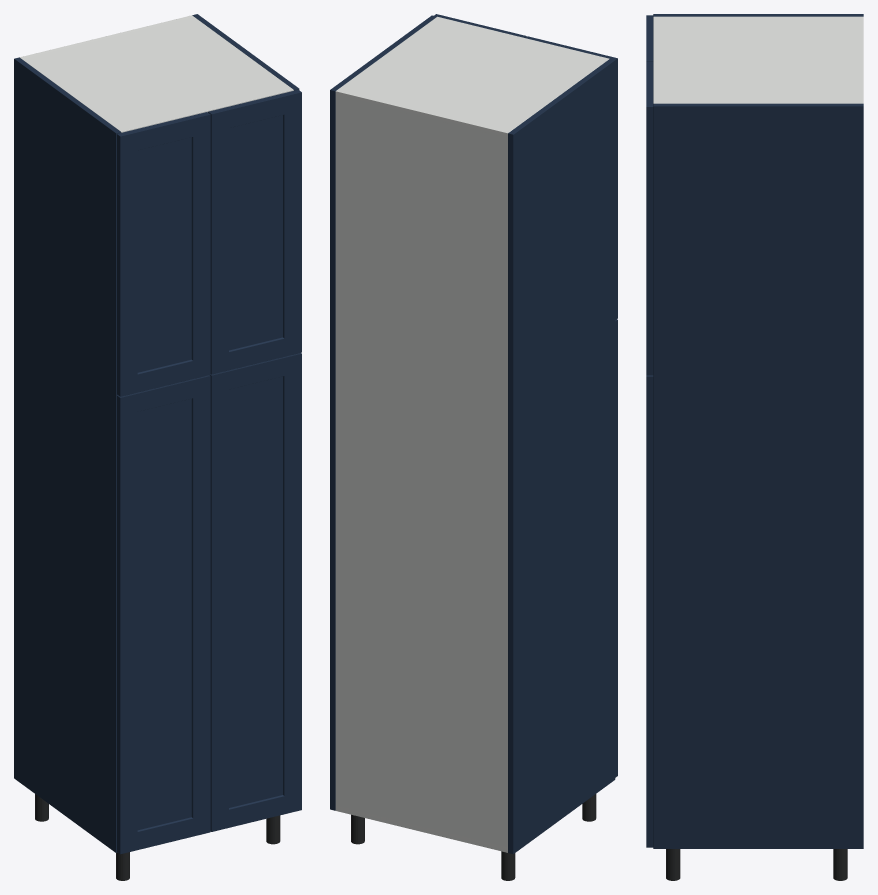
The model's file is oppein-pb-bss-pc2490.glb.
3 views of the same model, side by side, from view 1: azimuth 30°, elevation 25°; view 2: azimuth 150°, elevation 25°; view 3: azimuth 270°, elevation 25° (orthographic). The views are drawn at different scales.
Visible parts, largest first — view 1: Cabinet side, Door, Door.001, Door.002, Door.003, Cabinet top, Cabinet side.001; view 2: Cabinet back, Cabinet side, Cabinet top, Cabinet side.001, Door, Door.002, Cabinet bottom; view 3: Cabinet side.001, Cabinet top, Door.001, Door.003, Cabinet side, Adjustable foot.003, Adjustable foot.002.
Part boxes in pixels (x1,y1,x2,y2): Cabinet side: (14,57,121,852); Door: (117,375,210,854); Door.001: (210,353,301,831); Door.002: (117,112,210,396); Door.003: (208,89,301,374); Cabinet top: (21,16,293,132); Cabinet side.001: (192,14,299,90); Cabinet back: (335,89,509,852); Cabinet side: (508,59,615,854); Cabinet top: (336,16,609,138); Cabinet side.001: (330,15,436,810); Door: (615,319,617,777); Door.002: (525,36,617,319); Cabinet bottom: (335,805,507,852); Cabinet side.001: (653,103,863,848); Cabinet top: (653,16,859,103); Door.001: (646,375,653,847); Door.003: (646,61,653,375); Cabinet side: (653,14,863,16); Adjustable foot.003: (666,849,680,880); Adjustable foot.002: (833,849,847,880).
Bounding box in the file's own units: 0.6096 × 2.4 × 0.6064.
